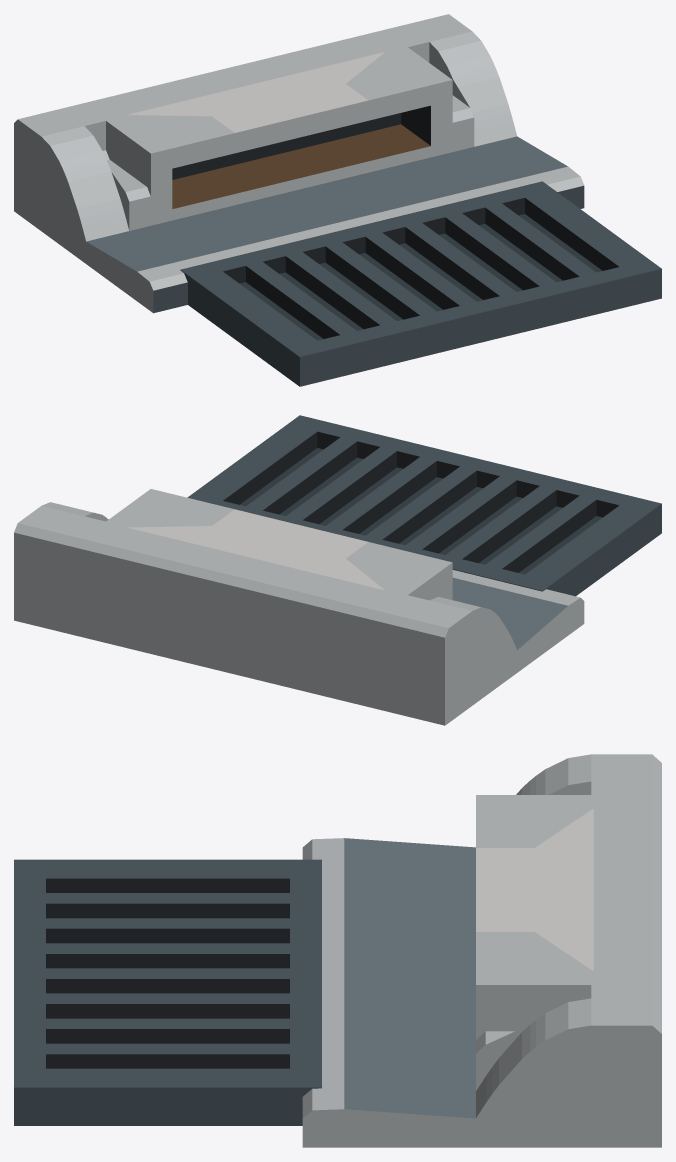
Rendered from kerb-storm-drain-inlet-c721db.glb.
3 renders of one model, top to bottom at view 1: azimuth 30°, elevation 25°; view 2: azimuth 150°, elevation 25°; view 3: azimuth 270°, elevation 25°, orthographic. The views are drawn at different scales.
Visible parts, largest first — view 1: inlet-block, grate-panel; view 2: inlet-block, grate-panel; view 3: inlet-block, grate-panel.
Boxes of the visible parts, <box> form: inlet-block: <box>14,14,584,313</box>; grate-panel: <box>180,181,661,386</box>; inlet-block: <box>14,489,584,725</box>; grate-panel: <box>187,415,661,596</box>; inlet-block: <box>302,754,661,1147</box>; grate-panel: <box>14,859,321,1125</box>.
Size of the model in its own units: 1 by 0.21 by 1.01.
